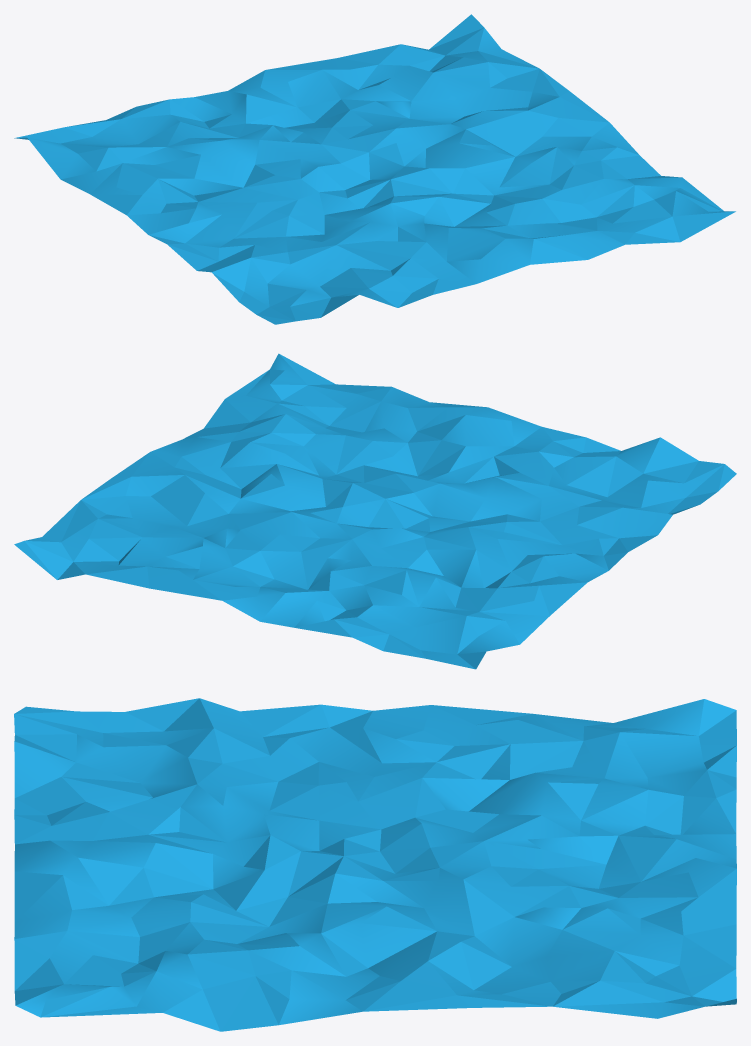
File: water.fbx
3 views of the same model, one above another, from view 1: azimuth 30°, elevation 25°; view 2: azimuth 150°, elevation 25°; view 3: azimuth 270°, elevation 25° (orthographic). The views are drawn at different scales.
Parts seen in each view (by area): view 1: water; view 2: water; view 3: water.
Boxes of the visible parts, <box> form: water: <box>14,14,735,324</box>; water: <box>14,353,736,669</box>; water: <box>14,698,736,1031</box>.
Size of the model in its own units: 640 by 39.39 by 638.
